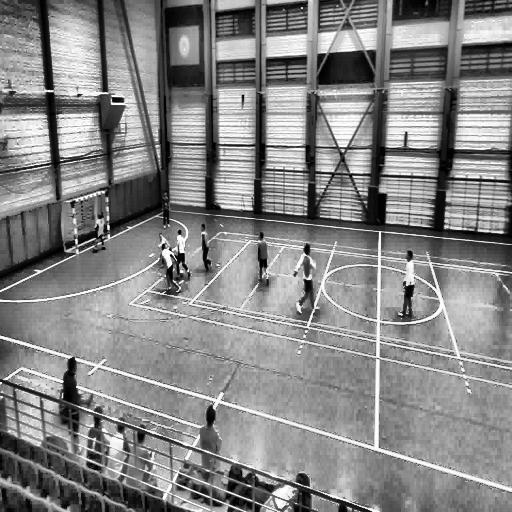ball: (178, 267, 185, 281)
player: (58, 358, 88, 457), (295, 244, 318, 312), (160, 234, 180, 294), (173, 226, 193, 284), (400, 250, 414, 318), (156, 232, 180, 270), (257, 232, 269, 286), (201, 224, 213, 274), (96, 213, 106, 252), (162, 190, 171, 224)
